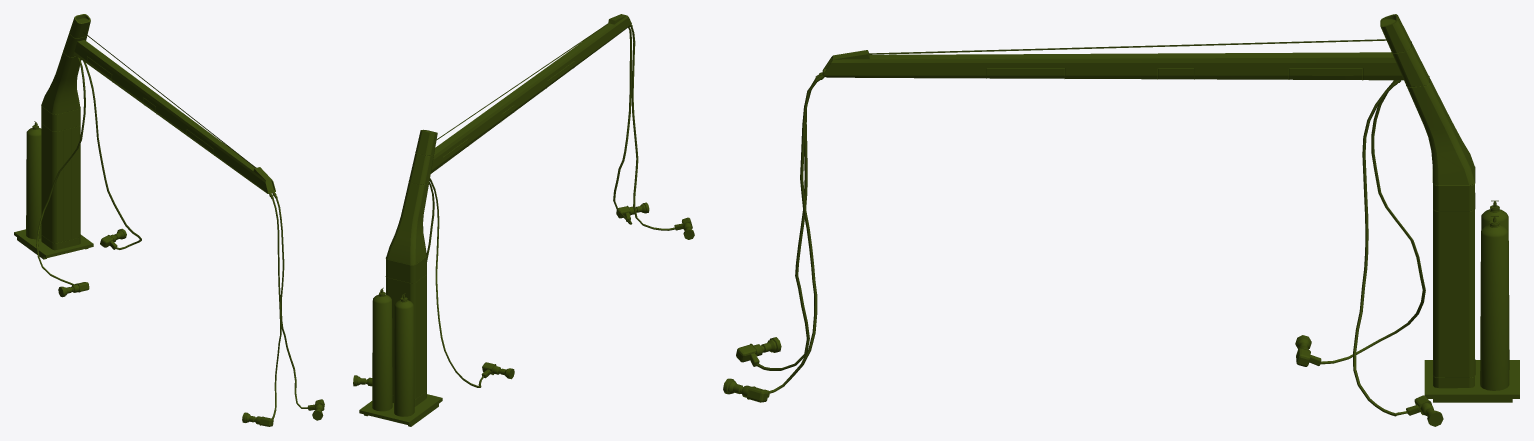
Rendered from PitStop Equip02_M.fbx.
3 views of the same model, side by side, from view 1: azimuth 30°, elevation 25°; view 2: azimuth 150°, elevation 25°; view 3: azimuth 270°, elevation 25° (orthographic). The views are drawn at different scales.
Parts seen in each view (by area): view 1: PitStop Equip02_NKit, PitStop Equip02_NKit_Wires, PSE2_Cylinder1, PitStop Equip02_NKit_Pitguns, PitStop Equip02_NKit_Detail; view 2: PitStop Equip02_NKit, PSE2_Cylinder2, PSE2_Cylinder1, PitStop Equip02_NKit_Wires, PitStop Equip02_NKit_Pitguns; view 3: PitStop Equip02_NKit, PitStop Equip02_NKit_Wires, PSE2_Cylinder2, PitStop Equip02_NKit_Pitguns.
Part boxes in pixels (x1,y1,x2,y2): PitStop Equip02_NKit: [14, 14, 277, 259]; PitStop Equip02_NKit_Wires: [36, 59, 307, 418]; PSE2_Cylinder1: [26, 121, 41, 239]; PitStop Equip02_NKit_Pitguns: [58, 228, 324, 426]; PitStop Equip02_NKit_Detail: [41, 32, 214, 243]; PitStop Equip02_NKit: [359, 14, 632, 426]; PSE2_Cylinder2: [372, 287, 392, 411]; PSE2_Cylinder1: [394, 293, 414, 416]; PitStop Equip02_NKit_Wires: [426, 27, 675, 387]; PitStop Equip02_NKit_Pitguns: [353, 202, 694, 386]; PitStop Equip02_NKit: [815, 14, 1519, 402]; PitStop Equip02_NKit_Wires: [756, 78, 1425, 416]; PSE2_Cylinder2: [1480, 215, 1509, 390]; PitStop Equip02_NKit_Pitguns: [723, 335, 1443, 426].
Bounding box in the file's own units: 0.5784 × 1.27 × 2.48.
